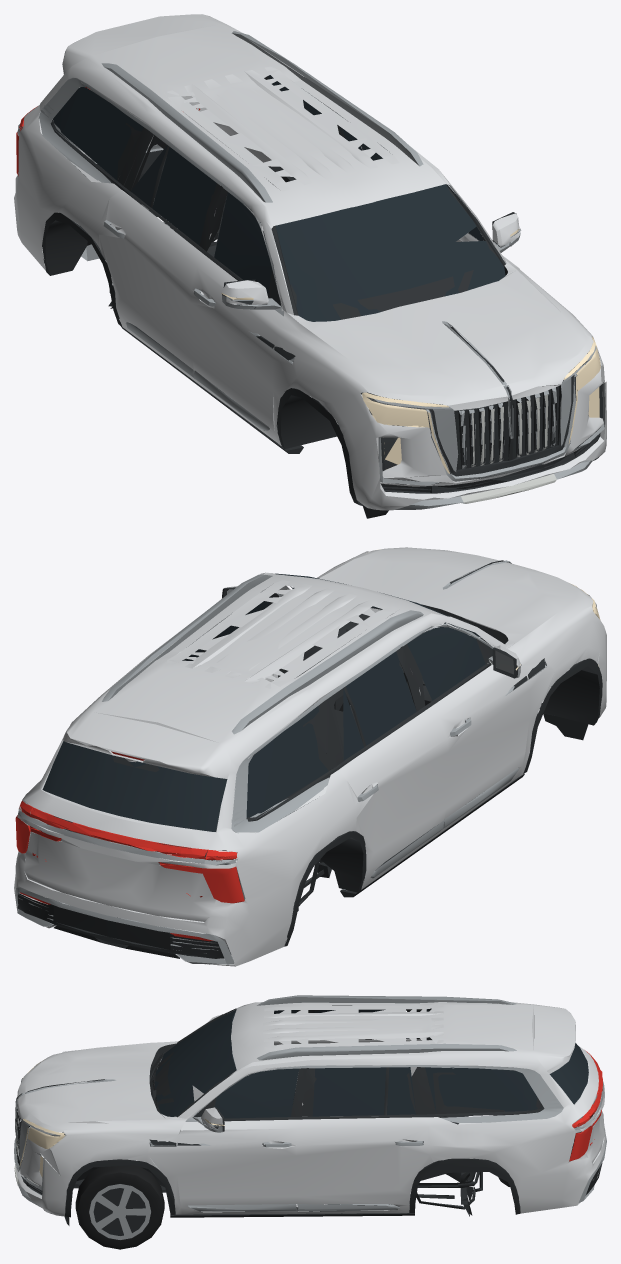
The model's file is suv-luxury.glb.
3 renders of one model, top to bottom at view 1: azimuth 30°, elevation 25°; view 2: azimuth 150°, elevation 25°; view 3: azimuth 270°, elevation 25°, orthographic. The views are drawn at different scales.
Visible parts, largest first — view 1: Car body, Car glazing, Car trim, Car wheel discs, Car headlamps, Car plates; view 2: Car body, Car glazing, Car trim, Car wheel discs, Car tail lamps; view 3: Car body, Car glazing, Car trim, Car wheel discs, Wheel tyre, Wheel rim, Wheel well, Car tail lamps, Car headlamps.
Boxes of the visible parts, bbox=[...] form: Car body: bbox=[14, 14, 606, 510]; Car glazing: bbox=[53, 75, 505, 321]; Car trim: bbox=[42, 76, 602, 518]; Car wheel discs: bbox=[18, 31, 605, 509]; Car headlamps: bbox=[221, 228, 600, 473]; Car plates: bbox=[461, 395, 556, 503]; Car body: bbox=[14, 547, 606, 966]; Car glazing: bbox=[42, 573, 485, 831]; Car trim: bbox=[17, 560, 602, 958]; Car wheel discs: bbox=[15, 560, 596, 964]; Car tail lamps: bbox=[15, 751, 244, 941]; Car body: bbox=[15, 1002, 605, 1216]; Car glazing: bbox=[64, 1009, 588, 1134]; Car trim: bbox=[15, 1005, 602, 1225]; Car wheel discs: bbox=[14, 995, 606, 1211]; Wheel tyre: bbox=[75, 1165, 164, 1249]; Wheel rim: bbox=[89, 1184, 150, 1239]; Wheel well: bbox=[93, 1183, 145, 1235]; Car tail lamps: bbox=[569, 1050, 602, 1161]; Car headlamps: bbox=[19, 1059, 224, 1177].
Bounding box in the file's own units: 2.39 × 1.98 × 5.69.
